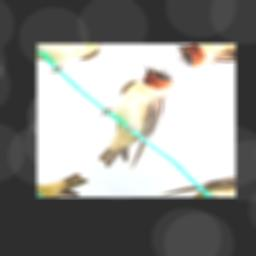Swallow: (59, 60, 214, 179)
